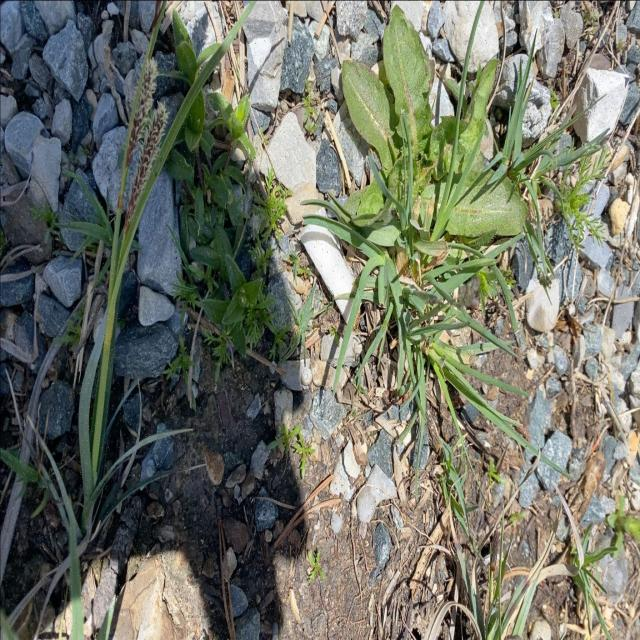other waste: (300, 205, 364, 328)
